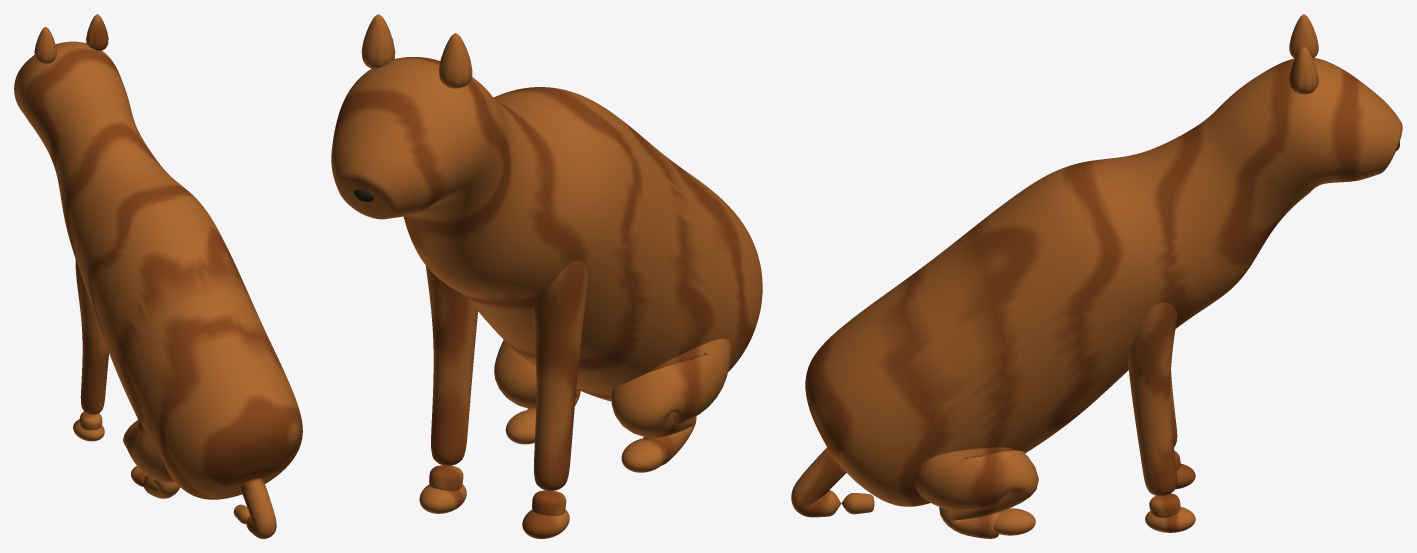
File: cat_ginger_sitting.gltf
3 renders of one model, left to right at view 1: azimuth 30°, elevation 25°; view 2: azimuth 150°, elevation 25°; view 3: azimuth 270°, elevation 25°, orthographic. The views are drawn at different scales.
Parts seen in each view (by area): view 1: cat; view 2: cat; view 3: cat.
Boxes of the visible parts, x1=… form: cat: x1=14, y1=14, x2=302, y2=538; cat: x1=331, y1=14, x2=762, y2=538; cat: x1=791, y1=14, x2=1402, y2=538.
Size of the model in its own units: 0.1558 by 0.4189 by 0.4777.
